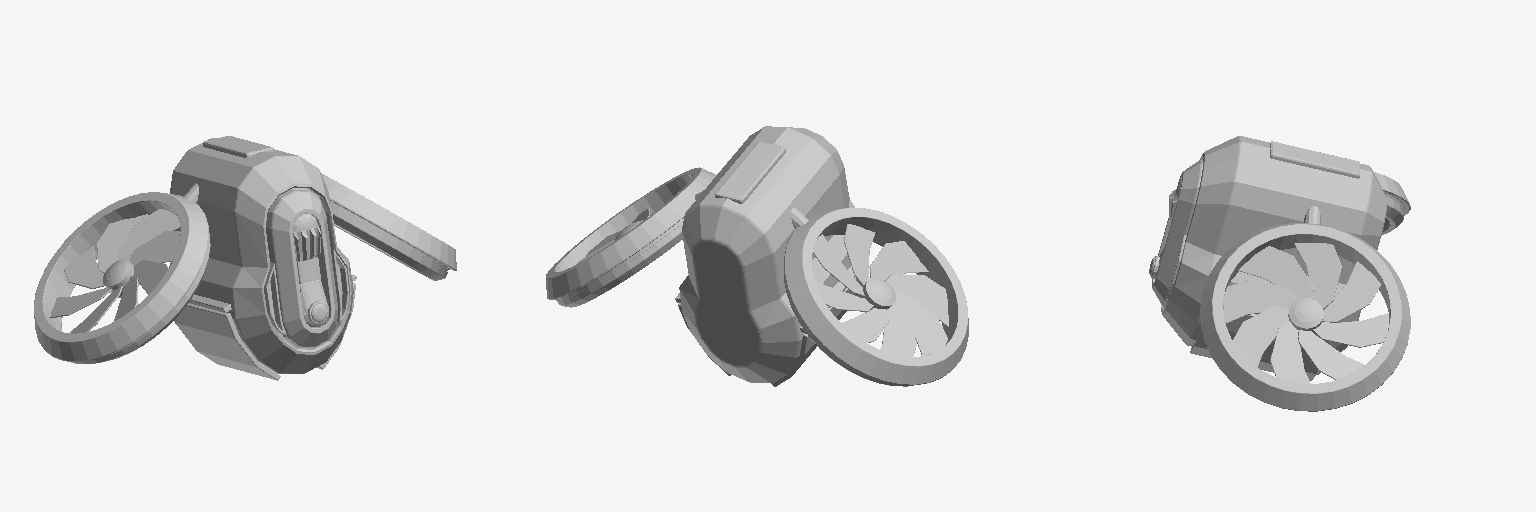
The model's file is Drone_Body.obj.
The picture shows the model from 3 angles: view 1: azimuth 30°, elevation 25°; view 2: azimuth 150°, elevation 25°; view 3: azimuth 270°, elevation 25°; orthographic projection.
Parts seen in each view (by area): view 1: Drone_Body:Drone_Body Drone_Body:polySurface1; view 2: Drone_Body:Drone_Body Drone_Body:polySurface1; view 3: Drone_Body:Drone_Body Drone_Body:polySurface1.
Boxes of the visible parts, x1=… form: Drone_Body:Drone_Body Drone_Body:polySurface1: x1=34, y1=136, x2=456, y2=380; Drone_Body:Drone_Body Drone_Body:polySurface1: x1=546, y1=126, x2=968, y2=386; Drone_Body:Drone_Body Drone_Body:polySurface1: x1=1149, y1=136, x2=1410, y2=411.
Bounding box in the file's own units: 2.99 × 1.67 × 1.73.